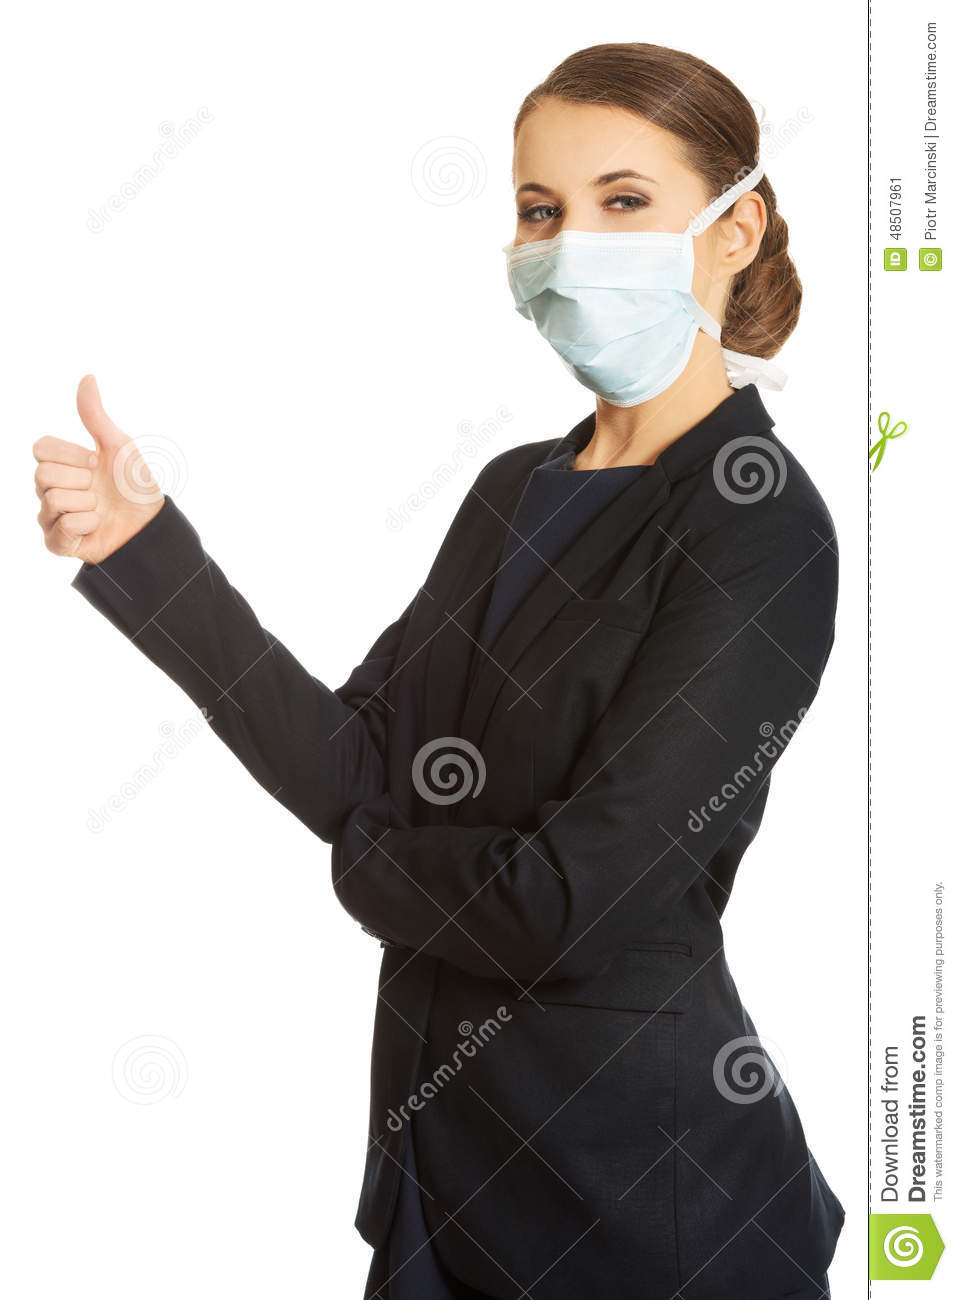mask: (509, 228, 701, 404)
